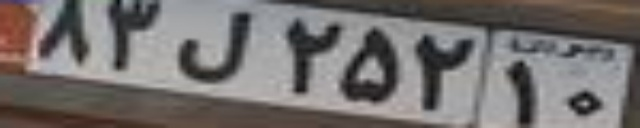0: (555, 89, 605, 116)
1: (502, 58, 536, 125)
2: (408, 32, 472, 111), (285, 19, 337, 94)
3: (110, 0, 163, 71)
5: (337, 26, 399, 102)
8: (32, 0, 92, 62)
lam: (176, 9, 249, 82)
